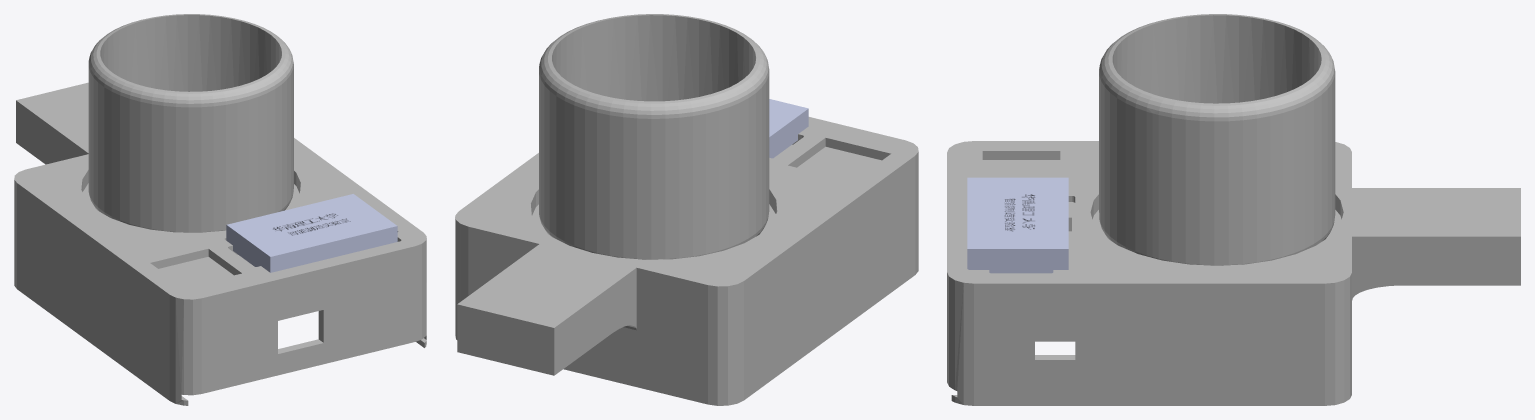
The model's file is tray_box_wood.dae.
3 renders of one model, left to right at view 1: azimuth 30°, elevation 25°; view 2: azimuth 150°, elevation 25°; view 3: azimuth 270°, elevation 25°, orthographic. The views are drawn at different scales.
Visible parts, largest first — view 1: tray_box_wood, box, wood; view 2: tray_box_wood, box, wood; view 3: tray_box_wood, box, wood.
Boxes of the visible parts, box(x1,y1,x2,y2) form: tray_box_wood: box(14, 82, 426, 405); box: box(88, 14, 293, 232); wood: box(226, 194, 397, 272); tray_box_wood: box(455, 117, 918, 405); box: box(539, 14, 769, 259); wood: box(769, 99, 808, 158); tray_box_wood: box(947, 141, 1520, 405); box: box(1099, 14, 1335, 265); wood: box(967, 177, 1068, 273).
Bounding box in the file's own units: 0.1 × 0.17 × 0.09.
